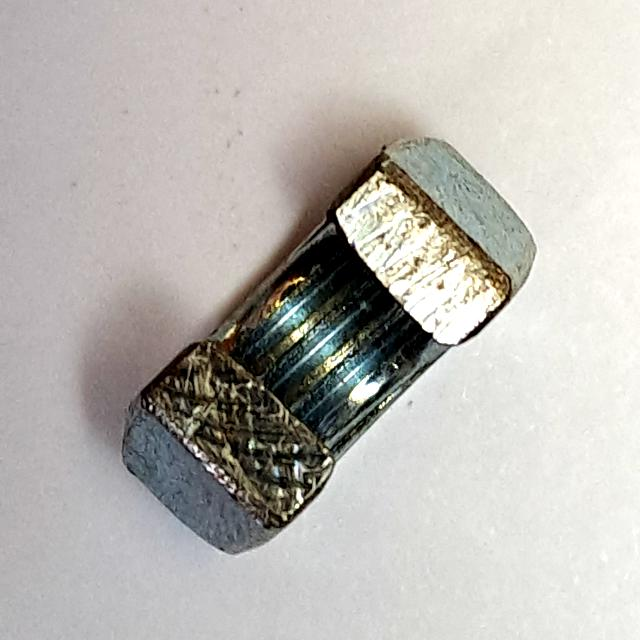Side-Fracture: (111, 121, 544, 581)
